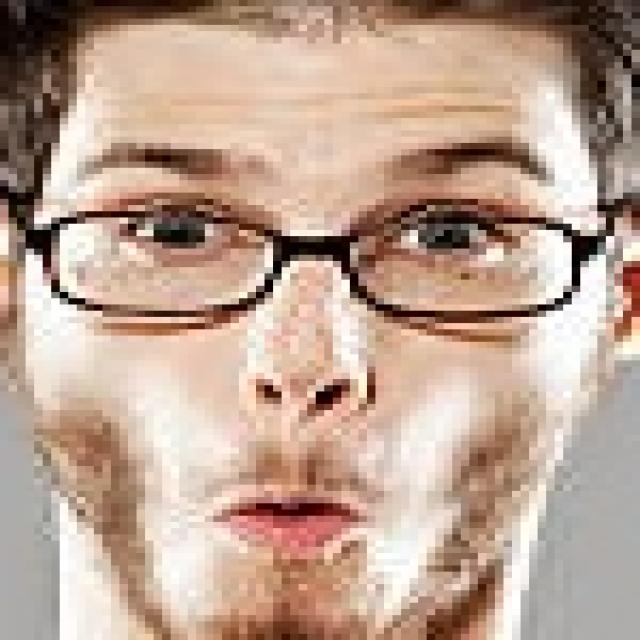Anxiety: (18, 26, 613, 634)
